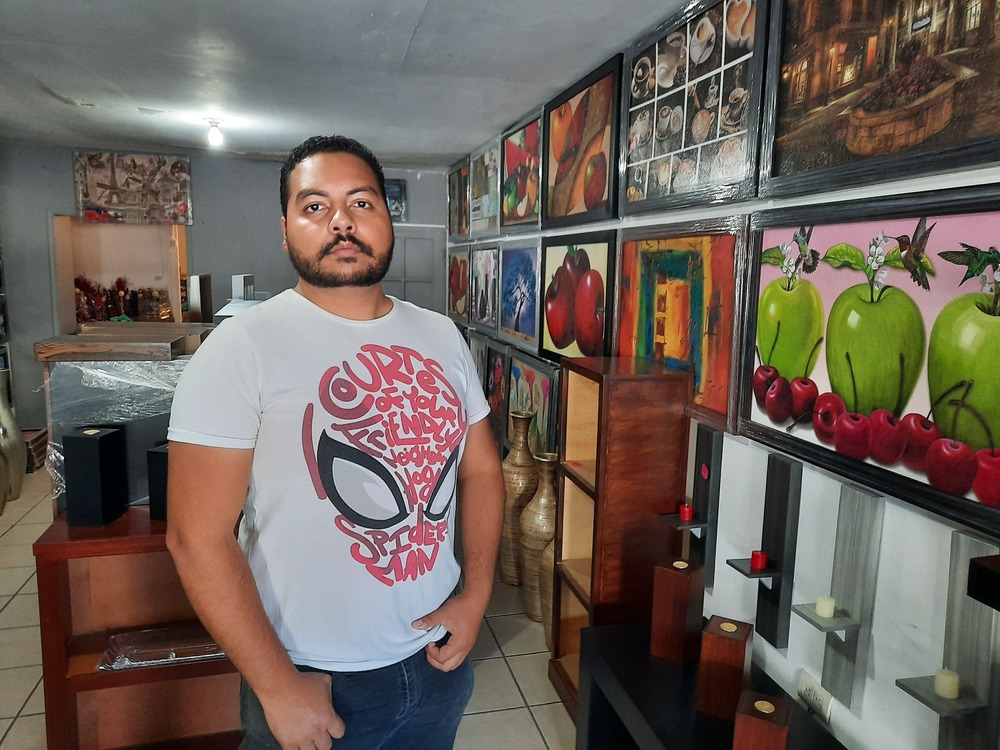Yoshi: (266, 126, 431, 317)
